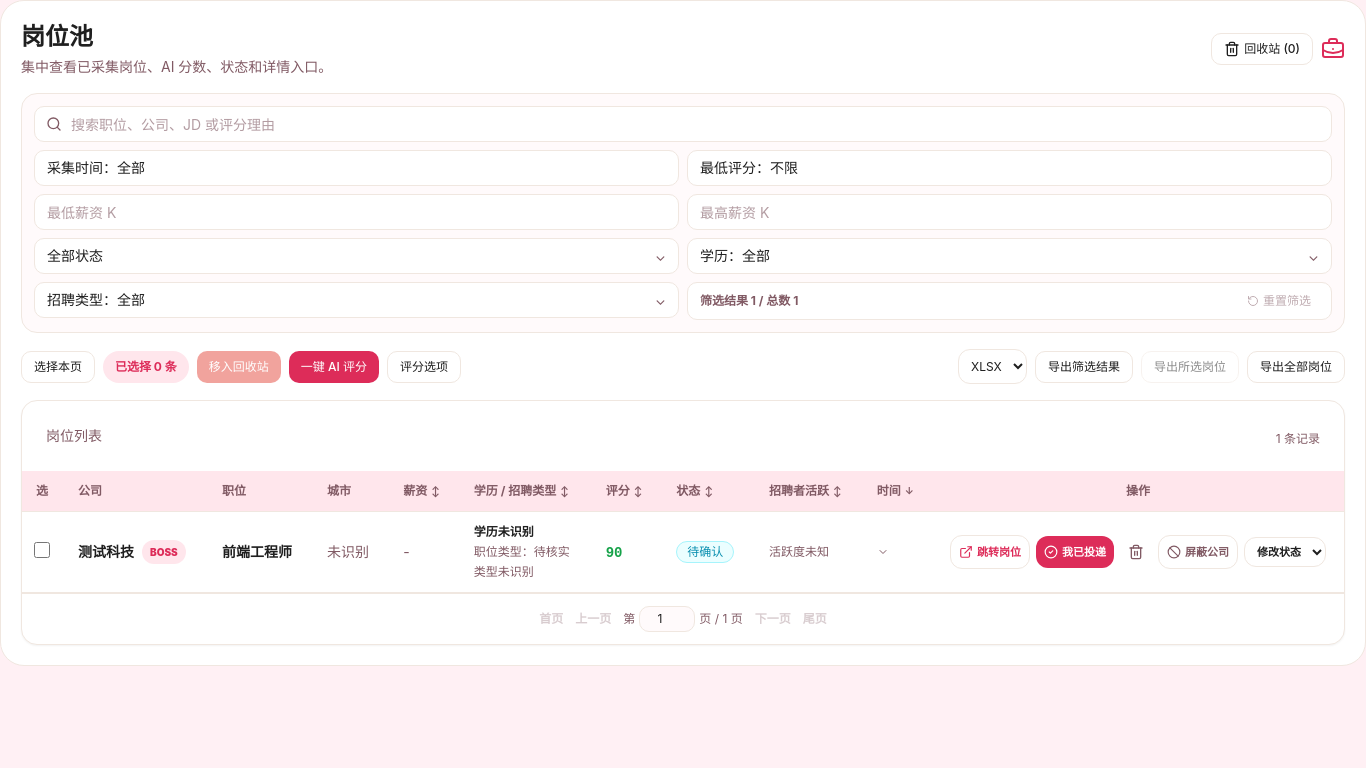
岗位列表屏蔽公司 › clears selected jobs when a saved blacklist hides them
The image size is (1366, 768).
Expected: the button with aria-label "屏蔽公司 测试科技" is shown, [1158,535,1238,569]
Click the checkbox named "选择 测试科技 前端工程师". click: coordinates (42, 550)
box: [34,542,50,558]
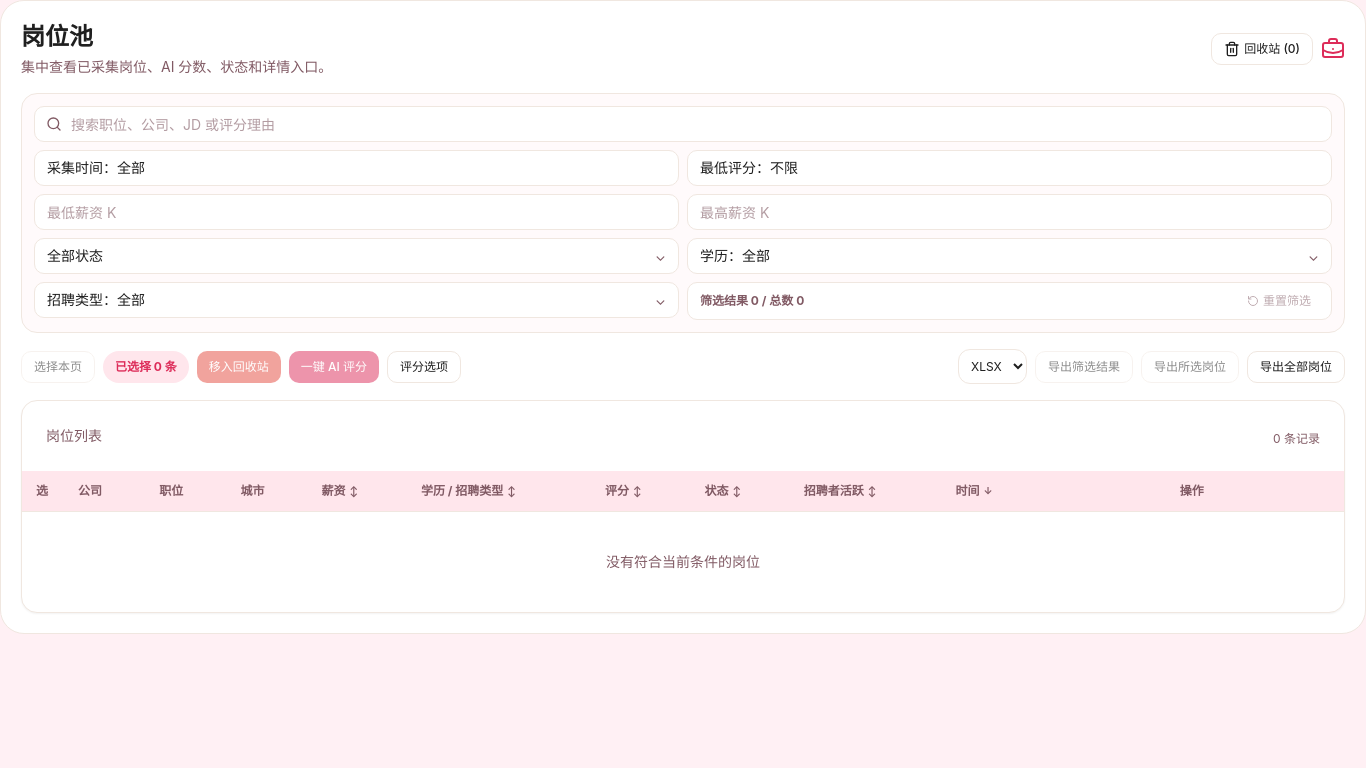
Expected: the text "已选择 0 条" is shown, [103,350,189,382]
Now the text "没有符合当前条件的岗位" is shown, box [22,512,1344,612]
